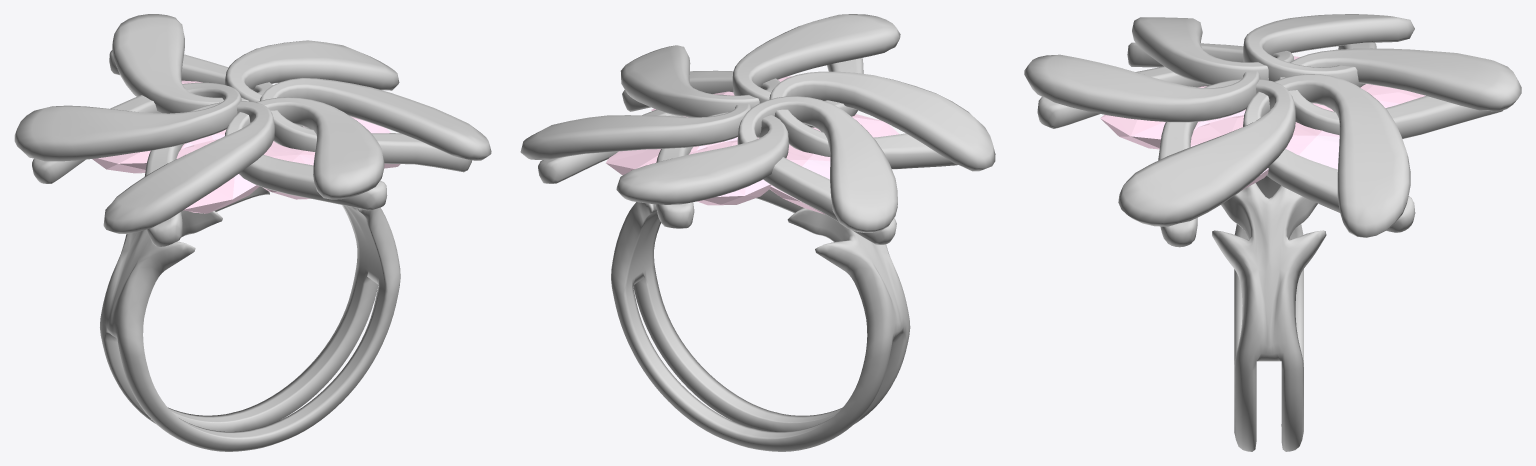
The model's file is Ring.glb.
3 renders of one model, left to right at view 1: azimuth 30°, elevation 25°; view 2: azimuth 150°, elevation 25°; view 3: azimuth 270°, elevation 25°, orthographic. The views are drawn at different scales.
Visible parts, largest first — view 1: FlowerTop, Ring, Gem; view 2: FlowerTop, Ring, Gem; view 3: FlowerTop, Ring, Gem.
Part boxes in pixels (<box>): FlowerTop: <box>14,14,491,246</box>; Ring: <box>100,186,400,451</box>; Gem: <box>92,80,400,213</box>; FlowerTop: <box>520,14,995,244</box>; Ring: <box>611,189,910,451</box>; Gem: <box>606,76,899,214</box>; FlowerTop: <box>1024,14,1521,247</box>; Ring: <box>1212,175,1326,451</box>; Gem: <box>1100,56,1424,190</box>.
Size of the model in its own units: 81.13 by 70.83 by 86.48.
